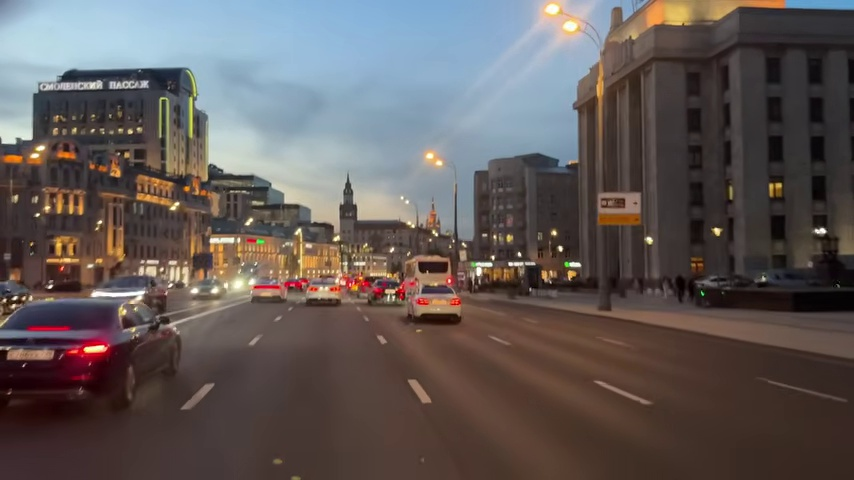acesa: (541, 0, 580, 36), (545, 13, 580, 36), (423, 149, 444, 169), (543, 2, 567, 19)
